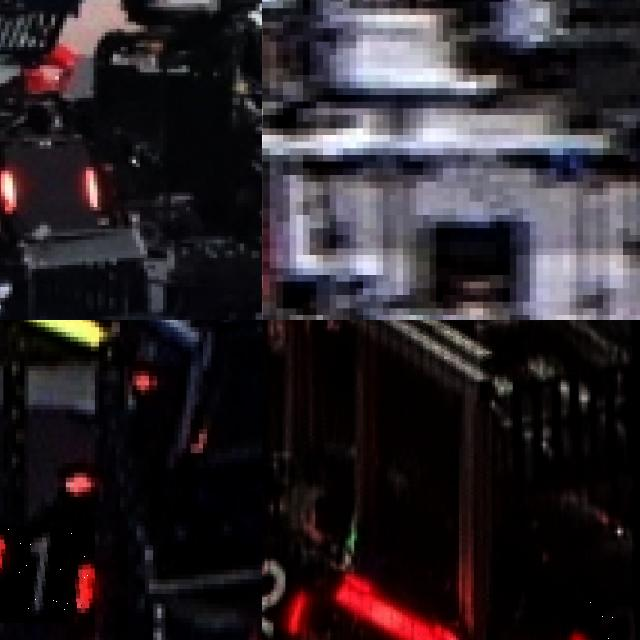R1: (0, 526, 95, 623)
R2: (262, 551, 321, 633), (560, 599, 640, 640)
